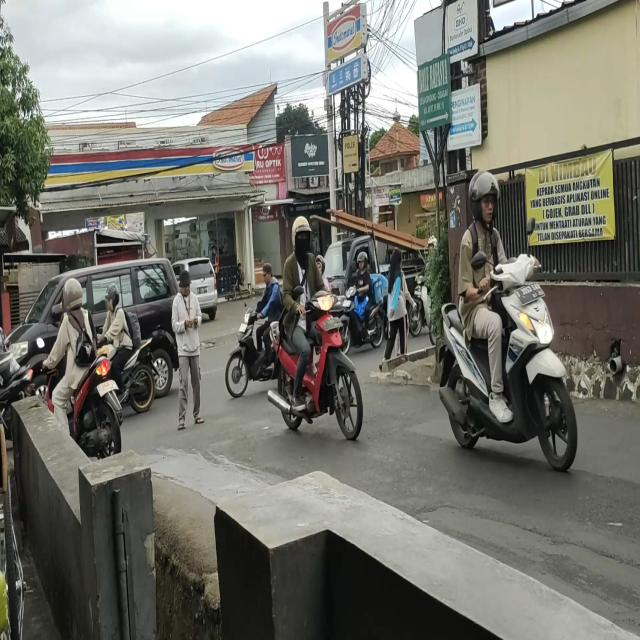helmet: (469, 168, 497, 228), (290, 219, 312, 258), (62, 275, 84, 313), (104, 284, 120, 309), (315, 254, 327, 276), (357, 250, 367, 272)
no-helmet: (257, 263, 274, 284)
